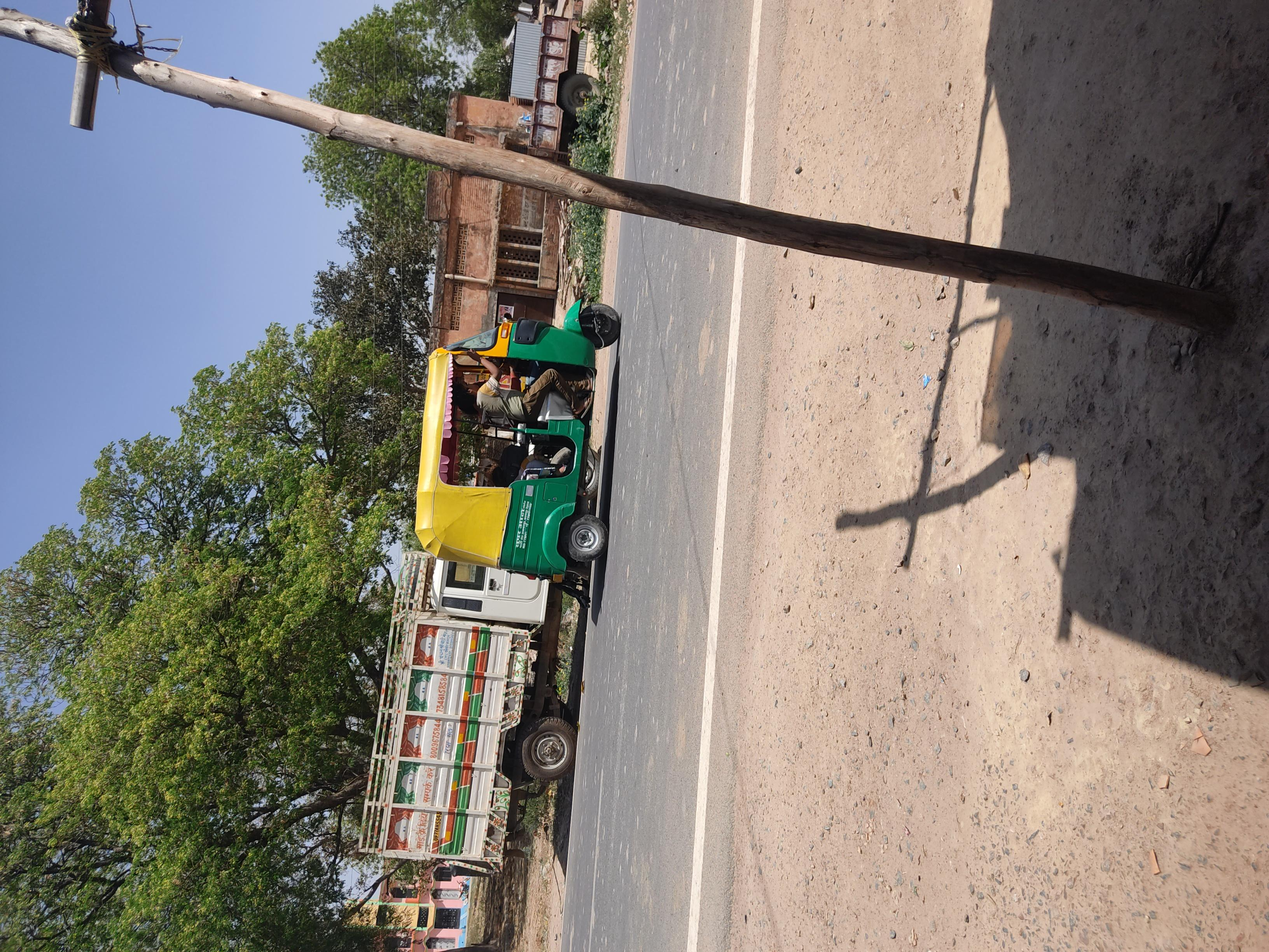Auto: (480, 296, 897, 474)
